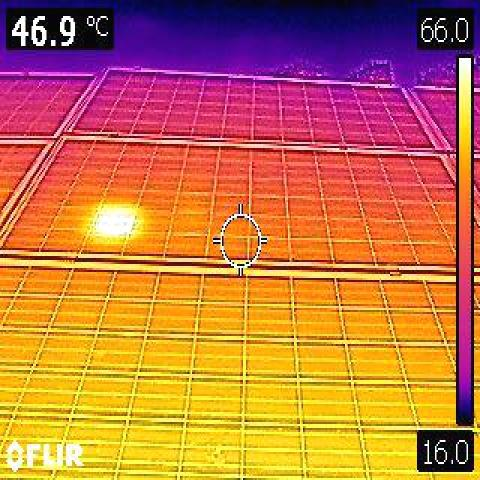fault: (99, 205, 132, 237)
